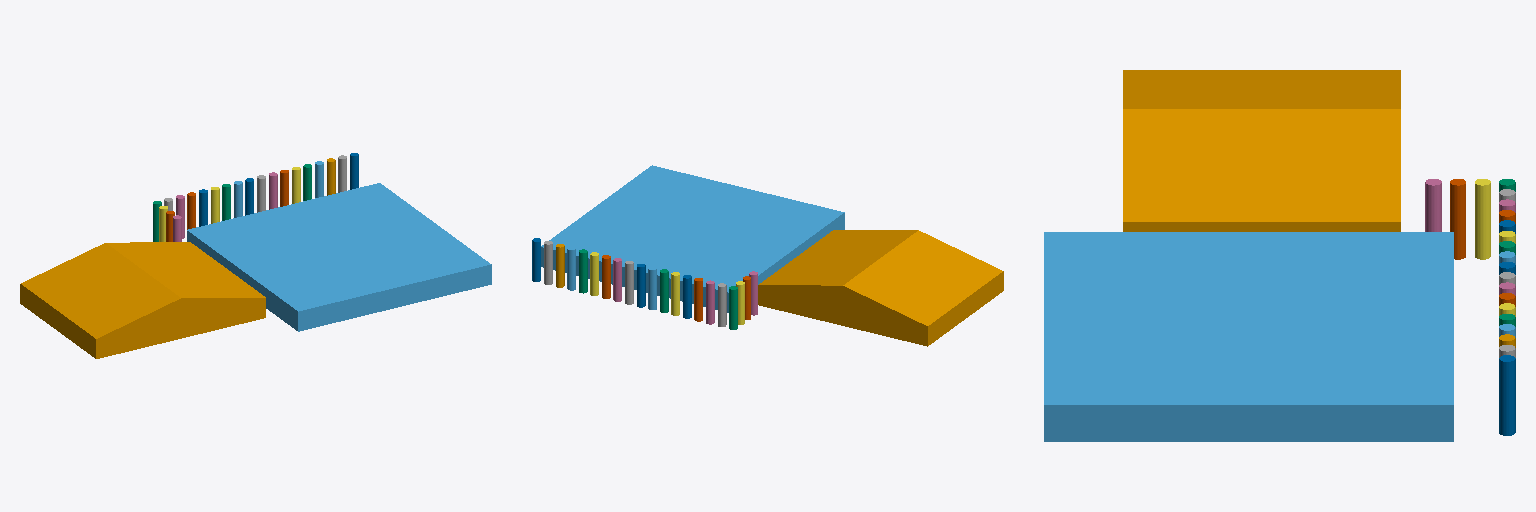
robot.urdf — pagoda-setup:
<robot name="pagoda-setup" version="1.0">
  <joint name="base_link_joint" type="fixed">
    <origin rpy="0.00000 0.00000 0.00000" xyz="0.00000 0.00000 0.00000"/>
    <parent link="base_link"/>
    <child link="platform_link"/>
  </joint>
  <joint name="pole_10_joint" type="fixed">
    <origin rpy="0.00000 0.00000 0.00000" xyz="0.00000 0.00000 0.00000"/>
    <parent link="base_link"/>
    <child link="Pole.010_link"/>
  </joint>
  <joint name="pole_19_joint" type="fixed">
    <origin rpy="0.00000 0.00000 0.00000" xyz="0.00000 0.00000 0.00000"/>
    <parent link="base_link"/>
    <child link="Pole.019_link"/>
  </joint>
  <joint name="pole_1_joint" type="fixed">
    <origin rpy="0.00000 0.00000 0.00000" xyz="0.00000 0.00000 0.00000"/>
    <parent link="base_link"/>
    <child link="Pole.001_link"/>
  </joint>
  <joint name="pole_20_joint" type="fixed">
    <origin rpy="0.00000 0.00000 0.00000" xyz="0.00000 0.00000 0.00000"/>
    <parent link="base_link"/>
    <child link="Pole.020_link"/>
  </joint>
  <joint name="pole_21_joint" type="fixed">
    <origin rpy="0.00000 0.00000 0.00000" xyz="0.00000 0.00000 0.00000"/>
    <parent link="base_link"/>
    <child link="Pole.021_link"/>
  </joint>
  <joint name="pole_2_joint" type="fixed">
    <origin rpy="0.00000 0.00000 0.00000" xyz="0.00000 0.00000 0.00000"/>
    <parent link="base_link"/>
    <child link="Pole.002_link"/>
  </joint>
  <joint name="pole_3_joint" type="fixed">
    <origin rpy="0.00000 0.00000 0.00000" xyz="0.00000 0.00000 0.00000"/>
    <parent link="base_link"/>
    <child link="Pole.003_link"/>
  </joint>
  <joint name="pole_4_joint" type="fixed">
    <origin rpy="0.00000 0.00000 0.00000" xyz="0.00000 0.00000 0.00000"/>
    <parent link="base_link"/>
    <child link="Pole.004_link"/>
  </joint>
  <joint name="pole_5_joint" type="fixed">
    <origin rpy="0.00000 0.00000 0.00000" xyz="0.00000 0.00000 0.00000"/>
    <parent link="base_link"/>
    <child link="Pole.005_link"/>
  </joint>
  <joint name="pole_6_joint" type="fixed">
    <origin rpy="0.00000 0.00000 0.00000" xyz="0.00000 0.00000 0.00000"/>
    <parent link="base_link"/>
    <child link="Pole.006_link"/>
  </joint>
  <joint name="pole_7_joint" type="fixed">
    <origin rpy="0.00000 0.00000 0.00000" xyz="0.00000 0.00000 0.00000"/>
    <parent link="base_link"/>
    <child link="Pole.007_link"/>
  </joint>
  <joint name="pole_11_joint" type="fixed">
    <origin rpy="0.00000 0.00000 0.00000" xyz="0.00000 0.00000 0.00000"/>
    <parent link="base_link"/>
    <child link="Pole.011_link"/>
  </joint>
  <joint name="pole_8_joint" type="fixed">
    <origin rpy="0.00000 0.00000 0.00000" xyz="0.00000 0.00000 0.00000"/>
    <parent link="base_link"/>
    <child link="Pole.008_link"/>
  </joint>
  <joint name="pole_9_joint" type="fixed">
    <origin rpy="0.00000 0.00000 0.00000" xyz="0.00000 0.00000 0.00000"/>
    <parent link="base_link"/>
    <child link="Pole.009_link"/>
  </joint>
  <joint name="roof_joint" type="fixed">
    <origin rpy="0.00000 0.00000 0.00000" xyz="0.00000 0.00000 0.00000"/>
    <parent link="base_link"/>
    <child link="Roof_link"/>
  </joint>
  <joint name="pole_12_joint" type="fixed">
    <origin rpy="0.00000 0.00000 0.00000" xyz="0.00000 0.00000 0.00000"/>
    <parent link="base_link"/>
    <child link="Pole.012_link"/>
  </joint>
  <joint name="pole_13_joint" type="fixed">
    <origin rpy="0.00000 0.00000 0.00000" xyz="0.00000 0.00000 0.00000"/>
    <parent link="base_link"/>
    <child link="Pole.013_link"/>
  </joint>
  <joint name="pole_14_joint" type="fixed">
    <origin rpy="0.00000 0.00000 0.00000" xyz="0.00000 0.00000 0.00000"/>
    <parent link="base_link"/>
    <child link="Pole.014_link"/>
  </joint>
  <joint name="pole_15_joint" type="fixed">
    <origin rpy="0.00000 0.00000 0.00000" xyz="0.00000 0.00000 0.00000"/>
    <parent link="base_link"/>
    <child link="Pole.015_link"/>
  </joint>
  <joint name="pole_16_joint" type="fixed">
    <origin rpy="0.00000 0.00000 0.00000" xyz="0.00000 0.00000 0.00000"/>
    <parent link="base_link"/>
    <child link="Pole.016_link"/>
  </joint>
  <joint name="pole_17_joint" type="fixed">
    <origin rpy="0.00000 0.00000 0.00000" xyz="0.00000 0.00000 0.00000"/>
    <parent link="base_link"/>
    <child link="Pole.017_link"/>
  </joint>
  <joint name="pole_18_joint" type="fixed">
    <origin rpy="0.00000 0.00000 0.00000" xyz="0.00000 0.00000 0.00000"/>
    <parent link="base_link"/>
    <child link="Pole.018_link"/>
  </joint>
  <link name="base_link"/>
  <link name="platform_link">
    <collision name="Base_collision">
      <origin rpy="0.00000 0.00000 0.00000" xyz="-0.26000 0.26000 0.02501"/>
      <geometry>
        <box size="0.50000 0.50000 0.05000"/>
      </geometry>
    </collision>
    <inertial>
      <inertia ixx="2.10417" ixy="0.00000" ixz="0.00000" iyy="2.10417" iyz="0.00000" izz="4.16667"/>
      <origin rpy="0.00000 0.00000 0.00000" xyz="-0.26000 0.26000 0.02501"/>
      <mass value="100.00000"/>
    </inertial>
    <visual name="Base">
      <material name="None"/>
      <origin rpy="0.00000 0.00000 0.00000" xyz="-0.26000 0.26000 0.02501"/>
      <geometry>
        <mesh filename="../meshes/stl/Cube.001.stl" scale="1.00000 1.00000 1.00000"/>
      </geometry>
    </visual>
  </link>
  <link name="Pole.018_link">
    <collision name="Pole.018_collision">
      <origin rpy="0.00000 0.00000 0.00000" xyz="-0.54837 0.57558 0.05000"/>
      <geometry>
        <cylinder radius="0.01000" length="0.10000"/>
      </geometry>
    </collision>
    <inertial>
      <inertia ixx="0.00858" ixy="0.00000" ixz="0.00000" iyy="0.00858" iyz="0.00000" izz="0.00050"/>
      <origin rpy="0.00000 0.00000 0.00000" xyz="-0.54837 0.57558 0.05000"/>
      <mass value="10.00000"/>
    </inertial>
    <visual name="Pole.018">
      <material name="None"/>
      <origin rpy="0.00000 0.00000 0.00000" xyz="-0.54837 0.57558 0.05000"/>
      <geometry>
        <cylinder radius="0.01000" length="0.10000"/>
      </geometry>
    </visual>
  </link>
  <link name="Pole.019_link">
    <collision name="Pole.019_collision">
      <origin rpy="0.00000 0.00000 0.00000" xyz="-0.54837 0.54558 0.05000"/>
      <geometry>
        <cylinder radius="0.01000" length="0.10000"/>
      </geometry>
    </collision>
    <inertial>
      <inertia ixx="0.00858" ixy="0.00000" ixz="0.00000" iyy="0.00858" iyz="0.00000" izz="0.00050"/>
      <origin rpy="0.00000 0.00000 0.00000" xyz="-0.54837 0.54558 0.05000"/>
      <mass value="10.00000"/>
    </inertial>
    <visual name="Pole.019">
      <material name="None"/>
      <origin rpy="0.00000 0.00000 0.00000" xyz="-0.54837 0.54558 0.05000"/>
      <geometry>
        <cylinder radius="0.01000" length="0.10000"/>
      </geometry>
    </visual>
  </link>
  <link name="Pole.001_link">
    <collision name="Pole.001_collision">
      <origin rpy="0.00000 0.00000 0.00000" xyz="-0.03837 0.57558 0.05000"/>
      <geometry>
        <cylinder radius="0.01000" length="0.10000"/>
      </geometry>
    </collision>
    <inertial>
      <inertia ixx="0.00858" ixy="0.00000" ixz="0.00000" iyy="0.00858" iyz="0.00000" izz="0.00050"/>
      <origin rpy="0.00000 0.00000 0.00000" xyz="-0.03837 0.57558 0.05000"/>
      <mass value="10.00000"/>
    </inertial>
    <visual name="Pole.001">
      <material name="None"/>
      <origin rpy="0.00000 0.00000 0.00000" xyz="-0.03837 0.57558 0.05000"/>
      <geometry>
        <cylinder radius="0.01000" length="0.10000"/>
      </geometry>
    </visual>
  </link>
  <link name="Pole.020_link">
    <collision name="Pole.020_collision">
      <origin rpy="0.00000 0.00000 0.00000" xyz="-0.54837 0.51558 0.05000"/>
      <geometry>
        <cylinder radius="0.01000" length="0.10000"/>
      </geometry>
    </collision>
    <inertial>
      <inertia ixx="0.00858" ixy="0.00000" ixz="0.00000" iyy="0.00858" iyz="0.00000" izz="0.00050"/>
      <origin rpy="0.00000 0.00000 0.00000" xyz="-0.54837 0.51558 0.05000"/>
      <mass value="10.00000"/>
    </inertial>
    <visual name="Pole.020">
      <material name="None"/>
      <origin rpy="0.00000 0.00000 0.00000" xyz="-0.54837 0.51558 0.05000"/>
      <geometry>
        <cylinder radius="0.01000" length="0.10000"/>
      </geometry>
    </visual>
  </link>
  <link name="Pole.021_link">
    <collision name="Pole.021_collision">
      <origin rpy="0.00000 0.00000 0.00000" xyz="-0.54837 0.48558 0.05000"/>
      <geometry>
        <cylinder radius="0.01000" length="0.10000"/>
      </geometry>
    </collision>
    <inertial>
      <inertia ixx="0.00858" ixy="0.00000" ixz="0.00000" iyy="0.00858" iyz="0.00000" izz="0.00050"/>
      <origin rpy="0.00000 0.00000 0.00000" xyz="-0.54837 0.48558 0.05000"/>
      <mass value="10.00000"/>
    </inertial>
    <visual name="Pole.021">
      <material name="None"/>
      <origin rpy="0.00000 0.00000 0.00000" xyz="-0.54837 0.48558 0.05000"/>
      <geometry>
        <cylinder radius="0.01000" length="0.10000"/>
      </geometry>
    </visual>
  </link>
  <link name="Pole.002_link">
    <collision name="Pole.002_collision">
      <origin rpy="0.00000 0.00000 0.00000" xyz="-0.06837 0.57558 0.05000"/>
      <geometry>
        <cylinder radius="0.01000" length="0.10000"/>
      </geometry>
    </collision>
    <inertial>
      <inertia ixx="0.00858" ixy="0.00000" ixz="0.00000" iyy="0.00858" iyz="0.00000" izz="0.00050"/>
      <origin rpy="0.00000 0.00000 0.00000" xyz="-0.06837 0.57558 0.05000"/>
      <mass value="10.00000"/>
    </inertial>
    <visual name="Pole.002">
      <material name="None"/>
      <origin rpy="0.00000 0.00000 0.00000" xyz="-0.06837 0.57558 0.05000"/>
      <geometry>
        <cylinder radius="0.01000" length="0.10000"/>
      </geometry>
    </visual>
  </link>
  <link name="Pole.003_link">
    <collision name="Pole.003_collision">
      <origin rpy="0.00000 0.00000 0.00000" xyz="-0.09837 0.57558 0.05000"/>
      <geometry>
        <cylinder radius="0.01000" length="0.10000"/>
      </geometry>
    </collision>
    <inertial>
      <inertia ixx="0.00858" ixy="0.00000" ixz="0.00000" iyy="0.00858" iyz="0.00000" izz="0.00050"/>
      <origin rpy="0.00000 0.00000 0.00000" xyz="-0.09837 0.57558 0.05000"/>
      <mass value="10.00000"/>
    </inertial>
    <visual name="Pole.003">
      <material name="None"/>
      <origin rpy="0.00000 0.00000 0.00000" xyz="-0.09837 0.57558 0.05000"/>
      <geometry>
        <cylinder radius="0.01000" length="0.10000"/>
      </geometry>
    </visual>
  </link>
  <link name="Pole.004_link">
    <collision name="Pole.004_collision">
      <origin rpy="0.00000 0.00000 0.00000" xyz="-0.12837 0.57558 0.05000"/>
      <geometry>
        <cylinder radius="0.01000" length="0.10000"/>
      </geometry>
    </collision>
    <inertial>
      <inertia ixx="0.00858" ixy="0.00000" ixz="0.00000" iyy="0.00858" iyz="0.00000" izz="0.00050"/>
      <origin rpy="0.00000 0.00000 0.00000" xyz="-0.12837 0.57558 0.05000"/>
      <mass value="10.00000"/>
    </inertial>
    <visual name="Pole.004">
      <material name="None"/>
      <origin rpy="0.00000 0.00000 0.00000" xyz="-0.12837 0.57558 0.05000"/>
      <geometry>
        <cylinder radius="0.01000" length="0.10000"/>
      </geometry>
    </visual>
  </link>
  <link name="Pole.005_link">
    <collision name="Pole.005_collision">
      <origin rpy="0.00000 0.00000 0.00000" xyz="-0.15837 0.57558 0.05000"/>
      <geometry>
        <cylinder radius="0.01000" length="0.10000"/>
      </geometry>
    </collision>
    <inertial>
      <inertia ixx="0.00858" ixy="0.00000" ixz="0.00000" iyy="0.00858" iyz="0.00000" izz="0.00050"/>
      <origin rpy="0.00000 0.00000 0.00000" xyz="-0.15837 0.57558 0.05000"/>
      <mass value="10.00000"/>
    </inertial>
    <visual name="Pole.005">
      <material name="None"/>
      <origin rpy="0.00000 0.00000 0.00000" xyz="-0.15837 0.57558 0.05000"/>
      <geometry>
        <cylinder radius="0.01000" length="0.10000"/>
      </geometry>
    </visual>
  </link>
  <link name="Pole.006_link">
    <collision name="Pole.006_collision">
      <origin rpy="0.00000 0.00000 0.00000" xyz="-0.18837 0.57558 0.05000"/>
      <geometry>
        <cylinder radius="0.01000" length="0.10000"/>
      </geometry>
    </collision>
    <inertial>
      <inertia ixx="0.00858" ixy="0.00000" ixz="0.00000" iyy="0.00858" iyz="0.00000" izz="0.00050"/>
      <origin rpy="0.00000 0.00000 0.00000" xyz="-0.18837 0.57558 0.05000"/>
      <mass value="10.00000"/>
    </inertial>
    <visual name="Pole.006">
      <material name="None"/>
      <origin rpy="0.00000 0.00000 0.00000" xyz="-0.18837 0.57558 0.05000"/>
      <geometry>
        <cylinder radius="0.01000" length="0.10000"/>
      </geometry>
    </visual>
  </link>
  <link name="Pole.010_link">
    <collision name="Pole.010_collision">
      <origin rpy="0.00000 0.00000 0.00000" xyz="-0.30837 0.57558 0.05000"/>
      <geometry>
        <cylinder radius="0.01000" length="0.10000"/>
      </geometry>
    </collision>
    <inertial>
      <inertia ixx="0.00858" ixy="0.00000" ixz="0.00000" iyy="0.00858" iyz="0.00000" izz="0.00050"/>
      <origin rpy="0.00000 0.00000 0.00000" xyz="-0.30837 0.57558 0.05000"/>
      <mass value="10.00000"/>
    </inertial>
    <visual name="Pole.010">
      <material name="None"/>
      <origin rpy="0.00000 0.00000 0.00000" xyz="-0.30837 0.57558 0.05000"/>
      <geometry>
        <cylinder radius="0.01000" length="0.10000"/>
      </geometry>
    </visual>
  </link>
  <link name="Pole.007_link">
    <collision name="Pole.007_collision">
      <origin rpy="0.00000 0.00000 0.00000" xyz="-0.21837 0.57558 0.05000"/>
      <geometry>
        <cylinder radius="0.01000" length="0.10000"/>
      </geometry>
    </collision>
    <inertial>
      <inertia ixx="0.00858" ixy="0.00000" ixz="0.00000" iyy="0.00858" iyz="0.00000" izz="0.00050"/>
      <origin rpy="0.00000 0.00000 0.00000" xyz="-0.21837 0.57558 0.05000"/>
      <mass value="10.00000"/>
    </inertial>
    <visual name="Pole.007">
      <material name="None"/>
      <origin rpy="0.00000 0.00000 0.00000" xyz="-0.21837 0.57558 0.05000"/>
      <geometry>
        <cylinder radius="0.01000" length="0.10000"/>
      </geometry>
    </visual>
  </link>
  <link name="Pole.008_link">
    <collision name="Pole.008_collision">
      <origin rpy="0.00000 0.00000 0.00000" xyz="-0.24837 0.57558 0.05000"/>
      <geometry>
        <cylinder radius="0.01000" length="0.10000"/>
      </geometry>
    </collision>
    <inertial>
      <inertia ixx="0.00858" ixy="0.00000" ixz="0.00000" iyy="0.00858" iyz="0.00000" izz="0.00050"/>
      <origin rpy="0.00000 0.00000 0.00000" xyz="-0.24837 0.57558 0.05000"/>
      <mass value="10.00000"/>
    </inertial>
    <visual name="Pole.008">
      <material name="None"/>
      <origin rpy="0.00000 0.00000 0.00000" xyz="-0.24837 0.57558 0.05000"/>
      <geometry>
        <cylinder radius="0.01000" length="0.10000"/>
      </geometry>
    </visual>
  </link>
  <link name="Pole.009_link">
    <collision name="Pole.009_collision">
      <origin rpy="0.00000 0.00000 0.00000" xyz="-0.27837 0.57558 0.05000"/>
      <geometry>
        <cylinder radius="0.01000" length="0.10000"/>
      </geometry>
    </collision>
    <inertial>
      <inertia ixx="0.00858" ixy="0.00000" ixz="0.00000" iyy="0.00858" iyz="0.00000" izz="0.00050"/>
      <origin rpy="0.00000 0.00000 0.00000" xyz="-0.27837 0.57558 0.05000"/>
      <mass value="10.00000"/>
    </inertial>
    <visual name="Pole.009">
      <material name="None"/>
      <origin rpy="0.00000 0.00000 0.00000" xyz="-0.27837 0.57558 0.05000"/>
      <geometry>
        <cylinder radius="0.01000" length="0.10000"/>
      </geometry>
    </visual>
  </link>
  <link name="Roof_link">
    <collision name="Roof_collision">
      <origin rpy="0.00000 0.00000 0.00000" xyz="-0.75738 0.27626 0.06643"/>
      <geometry>
        <mesh filename="../meshes/stl/geometry_0.stl" scale="1.00000 1.00000 1.00000"/>
      </geometry>
    </collision>
    <inertial>
      <inertia ixx="0.02226" ixy="0.00000" ixz="0.00003" iyy="0.03015" iyz="-0.00003" izz="0.04745"/>
      <origin rpy="0.00000 0.00000 0.00000" xyz="-0.75683 0.27558 0.04181"/>
      <mass value="2.00000"/>
    </inertial>
    <visual name="Roof">
      <material name="None"/>
      <origin rpy="0.00000 0.00000 0.00000" xyz="-0.75685 0.27574 0.05200"/>
      <geometry>
        <mesh filename="../meshes/stl/Cube.002.stl" scale="1.00000 1.00000 1.00000"/>
      </geometry>
    </visual>
  </link>
  <link name="Pole.011_link">
    <collision name="Pole.011_collision">
      <origin rpy="0.00000 0.00000 0.00000" xyz="-0.33837 0.57558 0.05000"/>
      <geometry>
        <cylinder radius="0.01000" length="0.10000"/>
      </geometry>
    </collision>
    <inertial>
      <inertia ixx="0.00858" ixy="0.00000" ixz="0.00000" iyy="0.00858" iyz="0.00000" izz="0.00050"/>
      <origin rpy="0.00000 0.00000 0.00000" xyz="-0.33837 0.57558 0.05000"/>
      <mass value="10.00000"/>
    </inertial>
    <visual name="Pole.011">
      <material name="None"/>
      <origin rpy="0.00000 0.00000 0.00000" xyz="-0.33837 0.57558 0.05000"/>
      <geometry>
        <cylinder radius="0.01000" length="0.10000"/>
      </geometry>
    </visual>
  </link>
  <link name="Pole.012_link">
    <collision name="Pole.012_collision">
      <origin rpy="0.00000 0.00000 0.00000" xyz="-0.36837 0.57558 0.05000"/>
      <geometry>
        <cylinder radius="0.01000" length="0.10000"/>
      </geometry>
    </collision>
    <inertial>
      <inertia ixx="0.00858" ixy="0.00000" ixz="0.00000" iyy="0.00858" iyz="0.00000" izz="0.00050"/>
      <origin rpy="0.00000 0.00000 0.00000" xyz="-0.36837 0.57558 0.05000"/>
      <mass value="10.00000"/>
    </inertial>
    <visual name="Pole.012">
      <material name="None"/>
      <origin rpy="0.00000 0.00000 0.00000" xyz="-0.36837 0.57558 0.05000"/>
      <geometry>
        <cylinder radius="0.01000" length="0.10000"/>
      </geometry>
    </visual>
  </link>
  <link name="Pole.013_link">
    <collision name="Pole.013_collision">
      <origin rpy="0.00000 0.00000 0.00000" xyz="-0.39837 0.57558 0.05000"/>
      <geometry>
        <cylinder radius="0.01000" length="0.10000"/>
      </geometry>
    </collision>
    <inertial>
      <inertia ixx="0.00858" ixy="0.00000" ixz="0.00000" iyy="0.00858" iyz="0.00000" izz="0.00050"/>
      <origin rpy="0.00000 0.00000 0.00000" xyz="-0.39837 0.57558 0.05000"/>
      <mass value="10.00000"/>
    </inertial>
    <visual name="Pole.013">
      <material name="None"/>
      <origin rpy="0.00000 0.00000 0.00000" xyz="-0.39837 0.57558 0.05000"/>
      <geometry>
        <cylinder radius="0.01000" length="0.10000"/>
      </geometry>
    </visual>
  </link>
  <link name="Pole.014_link">
    <collision name="Pole.014_collision">
      <origin rpy="0.00000 0.00000 0.00000" xyz="-0.42837 0.57558 0.05000"/>
      <geometry>
        <cylinder radius="0.01000" length="0.10000"/>
      </geometry>
    </collision>
    <inertial>
      <inertia ixx="0.00858" ixy="0.00000" ixz="0.00000" iyy="0.00858" iyz="0.00000" izz="0.00050"/>
      <origin rpy="0.00000 0.00000 0.00000" xyz="-0.42837 0.57558 0.05000"/>
      <mass value="10.00000"/>
    </inertial>
    <visual name="Pole.014">
      <material name="None"/>
      <origin rpy="0.00000 0.00000 0.00000" xyz="-0.42837 0.57558 0.05000"/>
      <geometry>
        <cylinder radius="0.01000" length="0.10000"/>
      </geometry>
    </visual>
  </link>
  <link name="Pole.015_link">
    <collision name="Pole.015_collision">
      <origin rpy="0.00000 0.00000 0.00000" xyz="-0.45837 0.57558 0.05000"/>
      <geometry>
        <cylinder radius="0.01000" length="0.10000"/>
      </geometry>
    </collision>
    <inertial>
      <inertia ixx="0.00858" ixy="-0.00000" ixz="0.00000" iyy="0.00858" iyz="0.00000" izz="0.00050"/>
      <origin rpy="0.00000 0.00000 0.00000" xyz="-0.45837 0.57558 0.05000"/>
      <mass value="10.00000"/>
    </inertial>
    <visual name="Pole.015">
      <material name="None"/>
      <origin rpy="0.00000 0.00000 0.00000" xyz="-0.45837 0.57558 0.05000"/>
      <geometry>
        <cylinder radius="0.01000" length="0.10000"/>
      </geometry>
    </visual>
  </link>
  <link name="Pole.016_link">
    <collision name="Pole.016_collision">
      <origin rpy="0.00000 0.00000 0.00000" xyz="-0.48837 0.57558 0.05000"/>
      <geometry>
        <cylinder radius="0.01000" length="0.10000"/>
      </geometry>
    </collision>
    <inertial>
      <inertia ixx="0.00858" ixy="0.00000" ixz="0.00000" iyy="0.00858" iyz="0.00000" izz="0.00050"/>
      <origin rpy="0.00000 0.00000 0.00000" xyz="-0.48837 0.57558 0.05000"/>
      <mass value="10.00000"/>
    </inertial>
    <visual name="Pole.016">
      <material name="None"/>
      <origin rpy="0.00000 0.00000 0.00000" xyz="-0.48837 0.57558 0.05000"/>
      <geometry>
        <cylinder radius="0.01000" length="0.10000"/>
      </geometry>
    </visual>
  </link>
  <link name="Pole.017_link">
    <collision name="Pole.017_collision">
      <origin rpy="0.00000 0.00000 0.00000" xyz="-0.51837 0.57558 0.05000"/>
      <geometry>
        <cylinder radius="0.01000" length="0.10000"/>
      </geometry>
    </collision>
    <inertial>
      <inertia ixx="0.00858" ixy="0.00000" ixz="0.00000" iyy="0.00858" iyz="0.00000" izz="0.00050"/>
      <origin rpy="0.00000 0.00000 0.00000" xyz="-0.51837 0.57558 0.05000"/>
      <mass value="10.00000"/>
    </inertial>
    <visual name="Pole.017">
      <material name="None"/>
      <origin rpy="0.00000 0.00000 0.00000" xyz="-0.51837 0.57558 0.05000"/>
      <geometry>
        <cylinder radius="0.01000" length="0.10000"/>
      </geometry>
    </visual>
  </link>
</robot>

--- Render facts (derived) ---
The picture shows the robot from 3 angles, left to right: view 1: azimuth 30°, elevation 25°; view 2: azimuth 150°, elevation 25°; view 3: azimuth 270°, elevation 25°; orthographic projection.
Model pagoda-setup with 24 links and 23 joints (23 fixed), rooted at base_link, posed all joints at 0.
Visible links, largest first — view 1: platform_link, Roof_link; view 2: platform_link, Roof_link; view 3: platform_link, Roof_link, Pole.001_link, Pole.019_link, Pole.020_link, Pole.021_link.
Link boxes in pixels (x1,y1,x2,y2): platform_link: (187, 183, 491, 331); Roof_link: (20, 242, 265, 358); platform_link: (541, 165, 844, 312); Roof_link: (758, 230, 1003, 346); platform_link: (1044, 232, 1453, 441); Roof_link: (1123, 70, 1400, 231); Pole.001_link: (1499, 355, 1515, 435); Pole.019_link: (1475, 179, 1490, 259); Pole.020_link: (1450, 179, 1465, 259); Pole.021_link: (1425, 179, 1441, 231).
Size in the robot's own frame: 0.9669 by 0.5756 by 0.102 metres.
Meshes: 2 distinct files referenced, 2 mesh visuals loaded (2 binary STL).